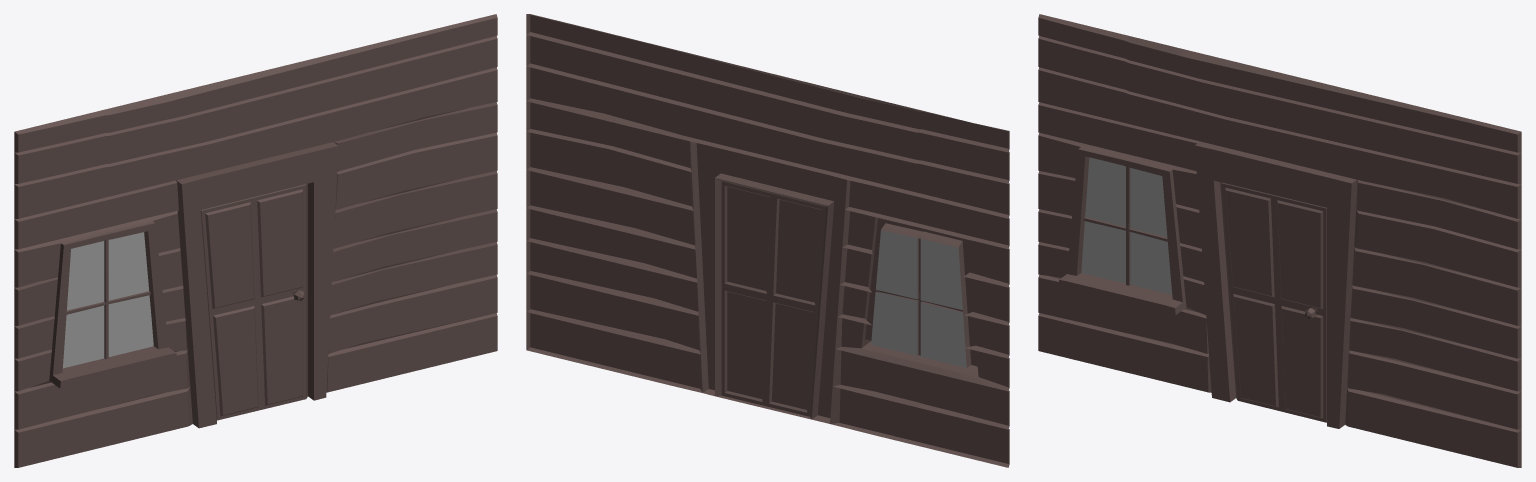
The model's file is Module_Building_Front.fbx.
3 renders of one model, left to right at view 1: azimuth 30°, elevation 25°; view 2: azimuth 150°, elevation 25°; view 3: azimuth 330°, elevation 25°, orthographic.
Visible parts, largest first — view 1: Module_Building_Front; view 2: Module_Building_Front; view 3: Module_Building_Front.
Boxes of the visible parts, bbox=[...] form: Module_Building_Front: bbox=[14, 14, 497, 467]; Module_Building_Front: bbox=[526, 14, 1009, 467]; Module_Building_Front: bbox=[1038, 14, 1521, 467].
Size of the model in its own units: 300 by 200 by 14.36.
